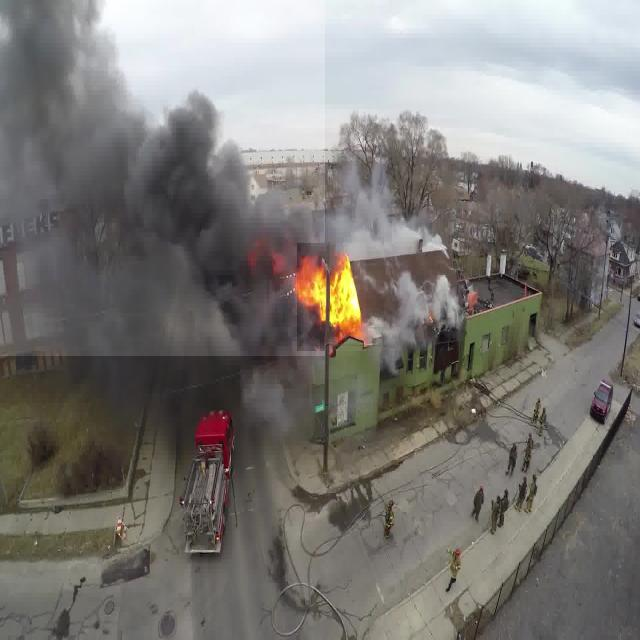Fire: (297, 243, 366, 351)
Smoke: (0, 0, 325, 356)
